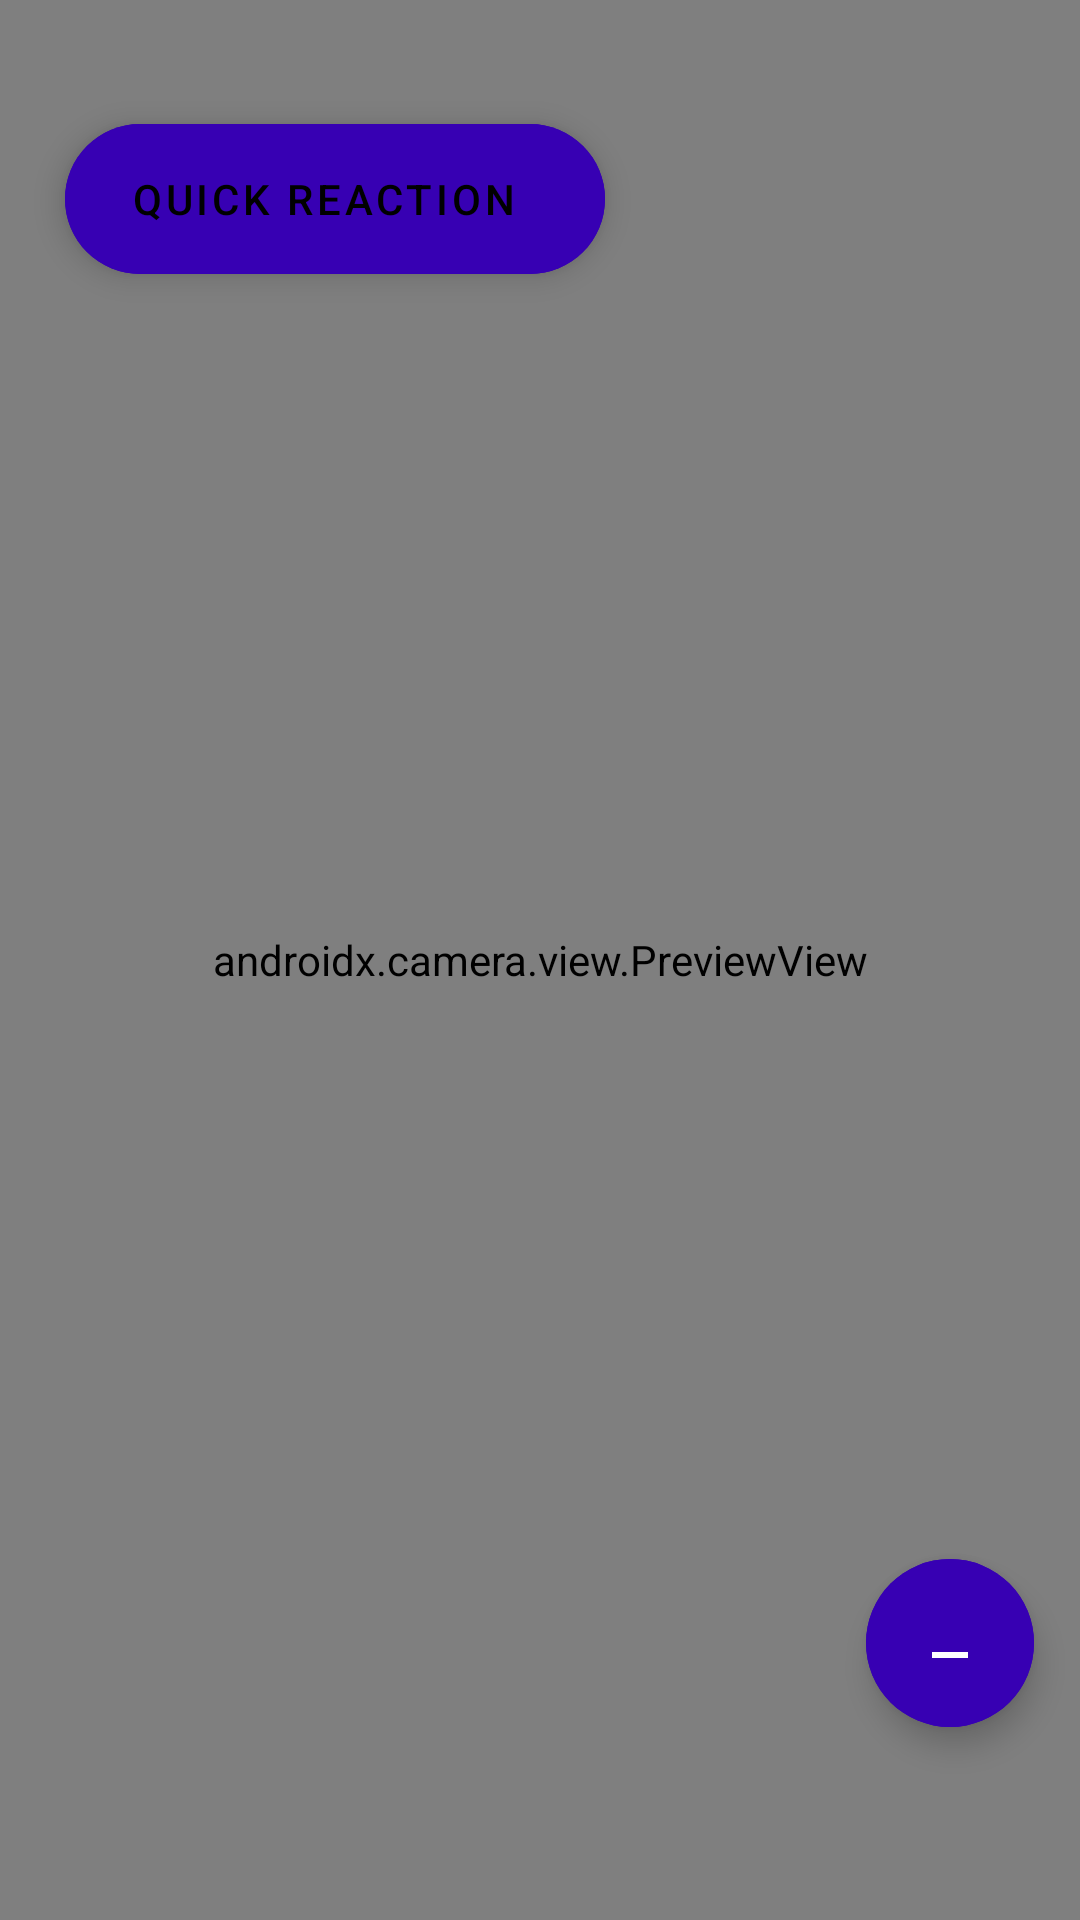

Where to tap for icons on this 1080x1920 app screen, as [x,y]:
minimize: [950,1643]
